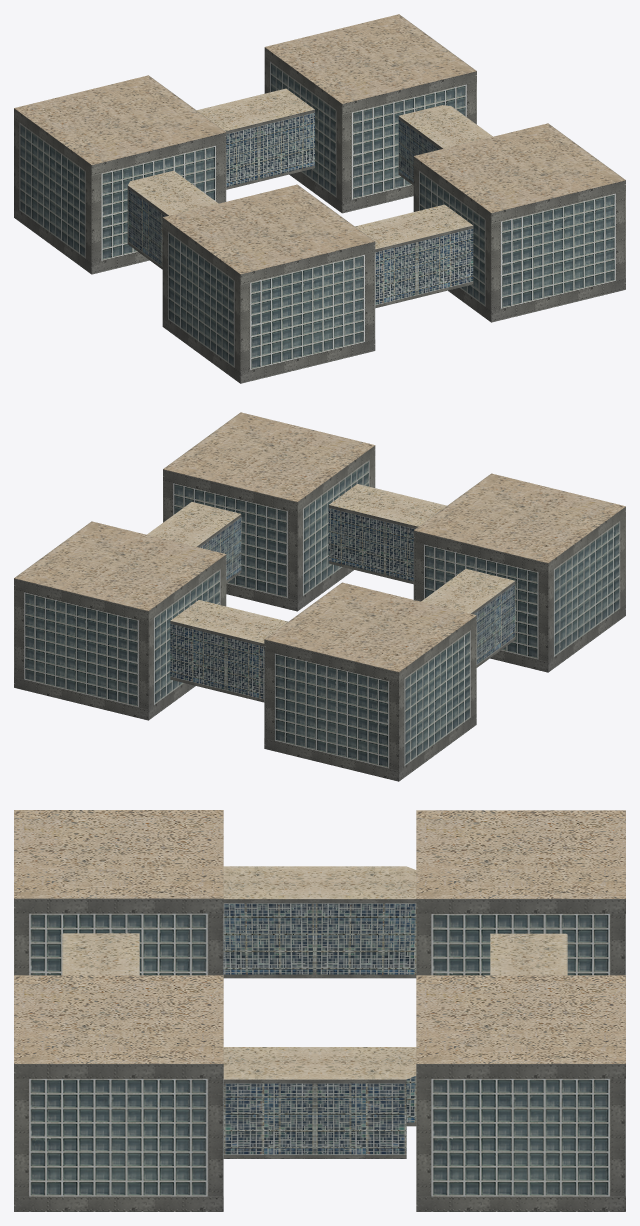
The picture shows the model from 3 angles, top to bottom: view 1: azimuth 30°, elevation 25°; view 2: azimuth 150°, elevation 25°; view 3: azimuth 270°, elevation 25°; orthographic projection. The views are drawn at different scales.
Parts seen in each view (by area): view 1: Box004; view 2: Box004; view 3: Box004.
Boxes of the visible parts, box(x1,y1,x2,y2) form: Box004: box(14, 14, 625, 383); Box004: box(14, 412, 625, 781); Box004: box(14, 810, 625, 1211).
Size of the model in its own units: 129 by 35 by 131.
1 material, 1 textured.
